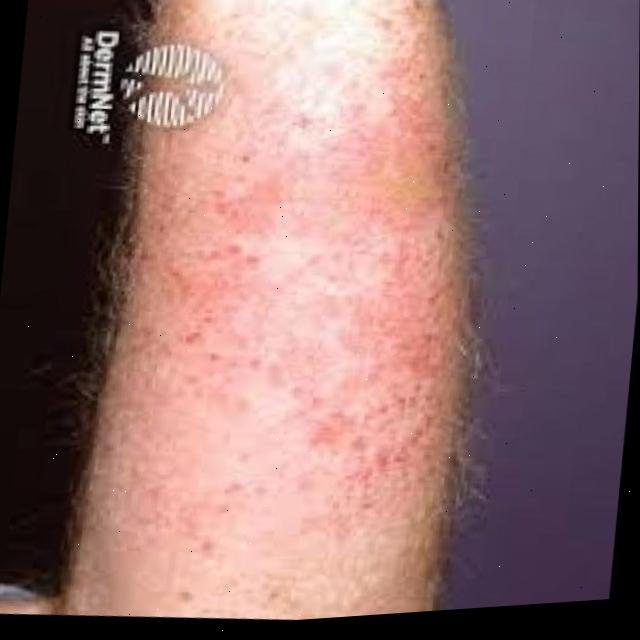Eczema: (170, 64, 461, 539)
